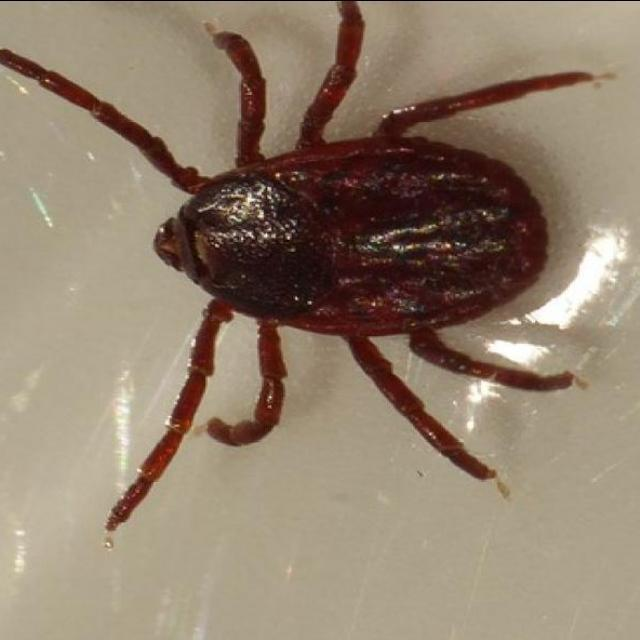Rhipicephalus Sanguineus-F: (0, 0, 601, 546)
